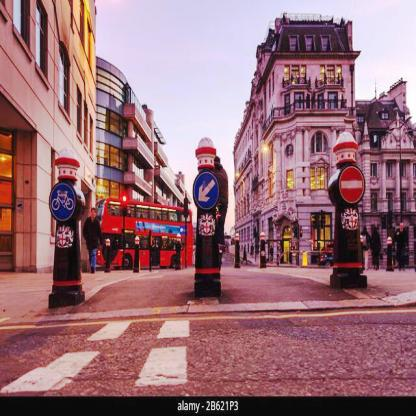Keep left: (194, 164, 220, 217)
